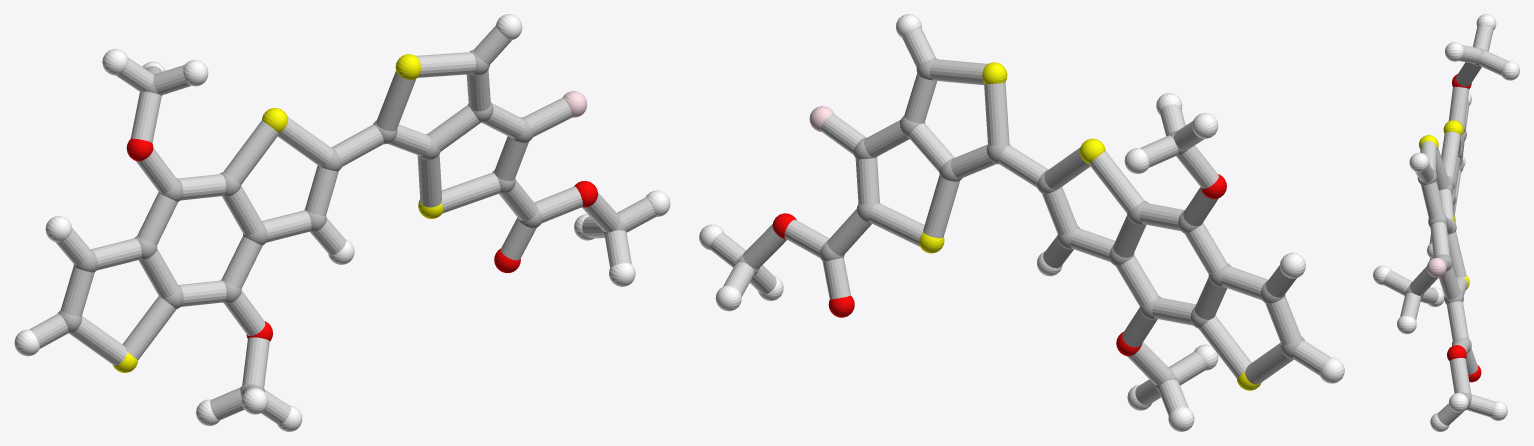
The model's file is Dimethoxy_Benzodithiophene_Phi_5_Theta_200_Methylcarbonyl_3_Fluoro_Thienothiophene.glb.
The picture shows the model from 3 angles, left to right: view 1: azimuth 30°, elevation 25°; view 2: azimuth 150°, elevation 25°; view 3: azimuth 270°, elevation 25°; orthographic projection. The views are drawn at different scales.
Visible parts, largest first — view 1: grp15205, grp8689, grp1, grp7241, grp13395; view 2: grp15205, grp8689, grp1, grp7241, grp13395; view 3: grp15205, grp8689, grp1, grp13395, grp7241, grp14843.
Part boxes in pixels (box(x1,y1,x2,y2)): grp15205: box(29, 25, 656, 424); grp8689: box(14, 14, 670, 431); grp1: box(57, 50, 625, 394); grp7241: box(113, 54, 442, 372); grp13395: box(126, 138, 597, 341); grp15205: box(710, 28, 1330, 415); grp8689: box(699, 14, 1344, 431); grp1: box(735, 58, 1305, 390); grp7241: box(919, 62, 1261, 390); grp13395: box(772, 174, 1226, 356); grp15205: box(1383, 25, 1507, 425); grp8689: box(1373, 14, 1519, 431); grp1: box(1405, 48, 1486, 409); grp13395: box(1447, 74, 1481, 382); grp7241: box(1419, 120, 1469, 289); grp14843: box(1427, 258, 1446, 277).
Bounding box in the file's own units: 16.96 × 9.18 × 4.44.
